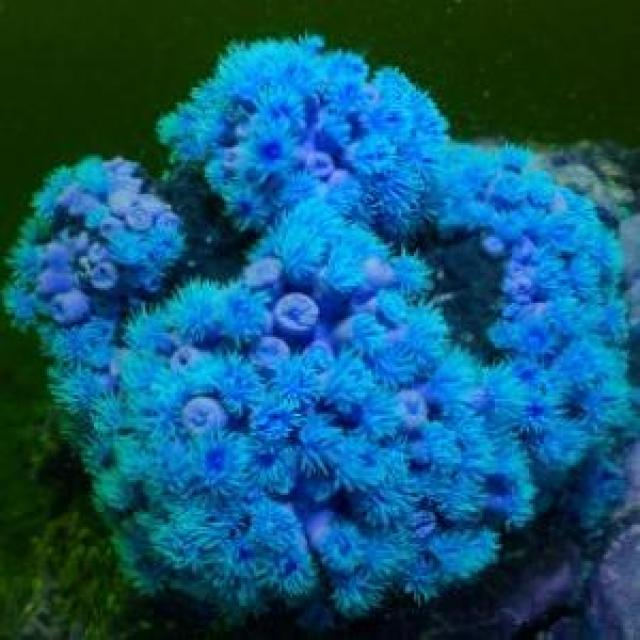Healthy: (9, 39, 630, 617)
